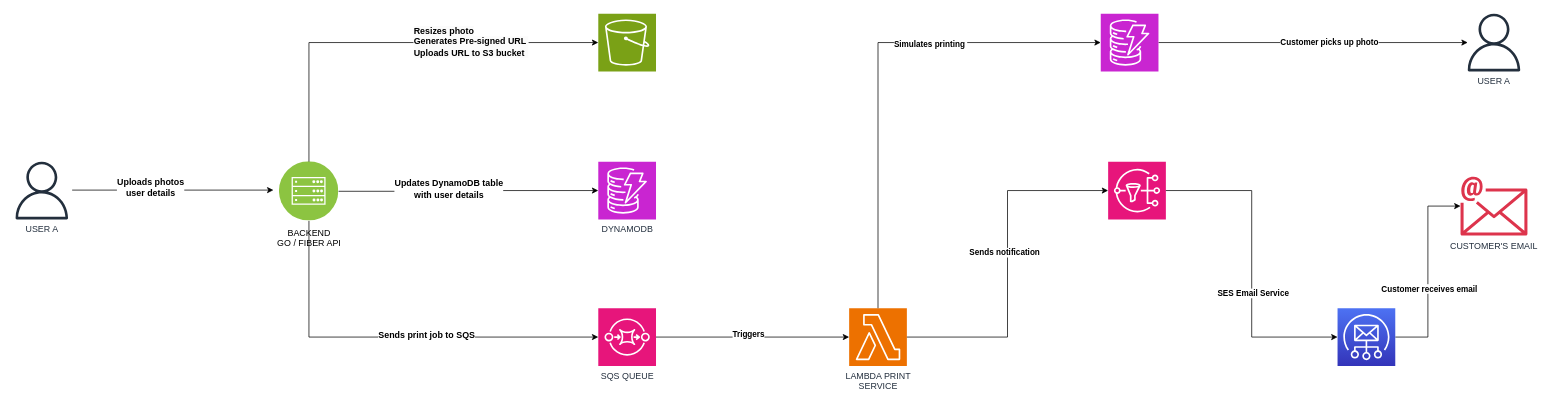
The diagram is 1550 pixels wide and 406 high, and some of its shapes have lost their labels. The centre of each missing label's shape, as x and y in pixels:
DYNAMODB UPDATE: PRINTED: point (1129, 42)
S3 BUCKET PROCESSED PHOTOS: point (627, 42)
SES: point (1366, 337)
SNS TOPIC: point (1137, 190)
